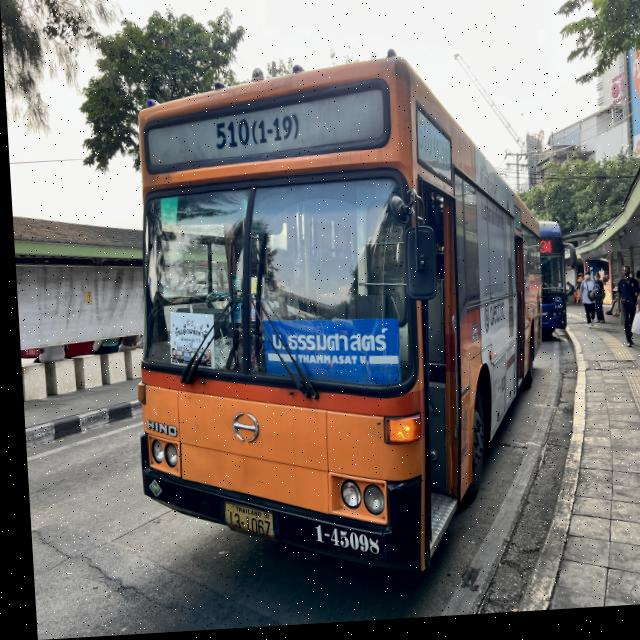BMTA-bus: (115, 54, 554, 592)
Bus-Line-Number: (201, 109, 309, 156)
Destination-Sign-Normal: (258, 314, 399, 403)
TSB-Bus: (532, 223, 569, 347)
